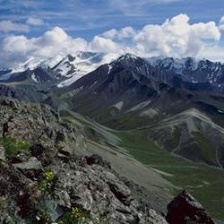neutral: (2, 8, 222, 224)
